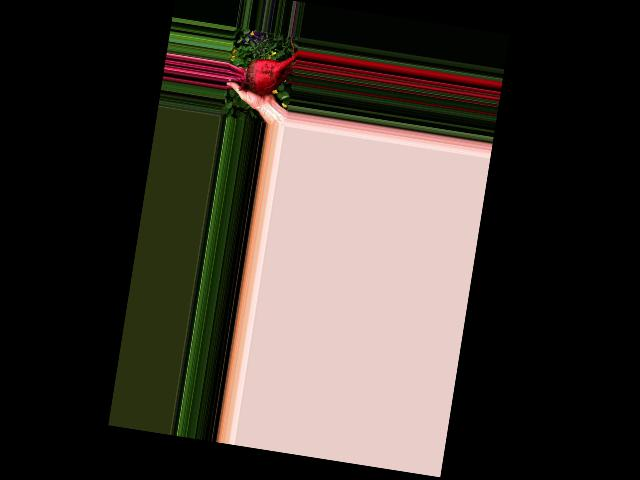beet: (224, 40, 298, 99)
